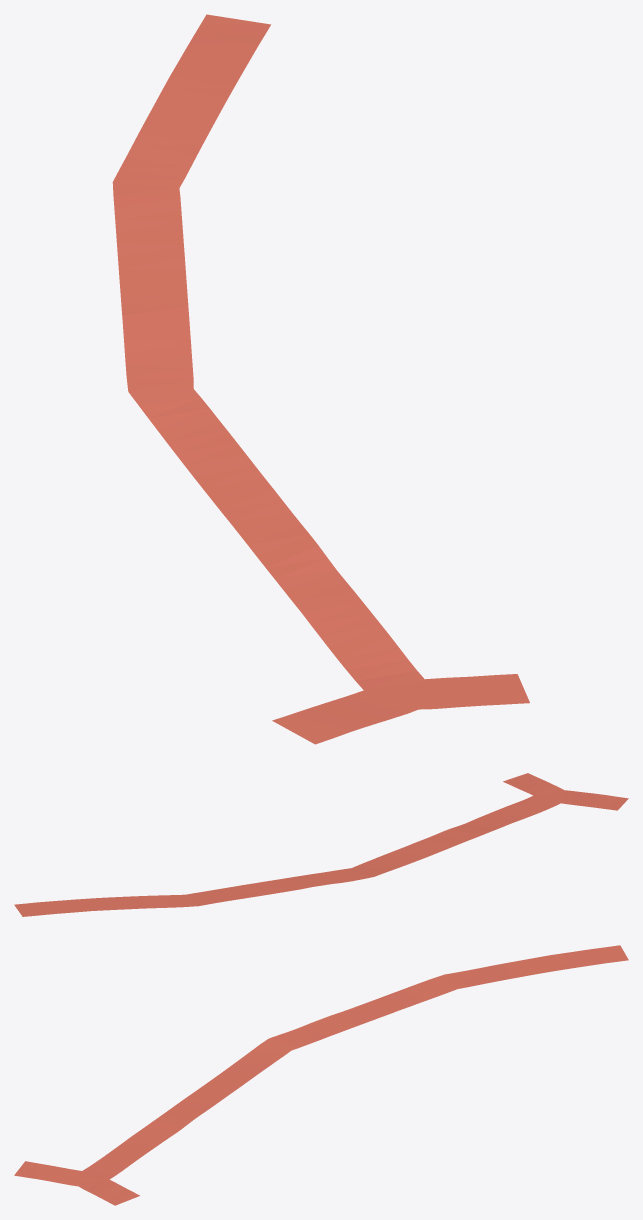
Rendered from landmark_nursery-lane.glb.
3 renders of one model, top to bottom at view 1: azimuth 30°, elevation 25°; view 2: azimuth 150°, elevation 25°; view 3: azimuth 330°, elevation 25°, orthographic. The views are drawn at different scales.
Visible parts, largest first — view 1: Landmark_nursery_lane_0; view 2: Landmark_nursery_lane_0; view 3: Landmark_nursery_lane_0.
Part boxes in pixels (<box>): Landmark_nursery_lane_0: <box>112,14,529,744</box>; Landmark_nursery_lane_0: <box>14,773,628,916</box>; Landmark_nursery_lane_0: <box>14,945,628,1205</box>.
Bounding box in the file's own units: 57.1 × 10.55 × 109.
